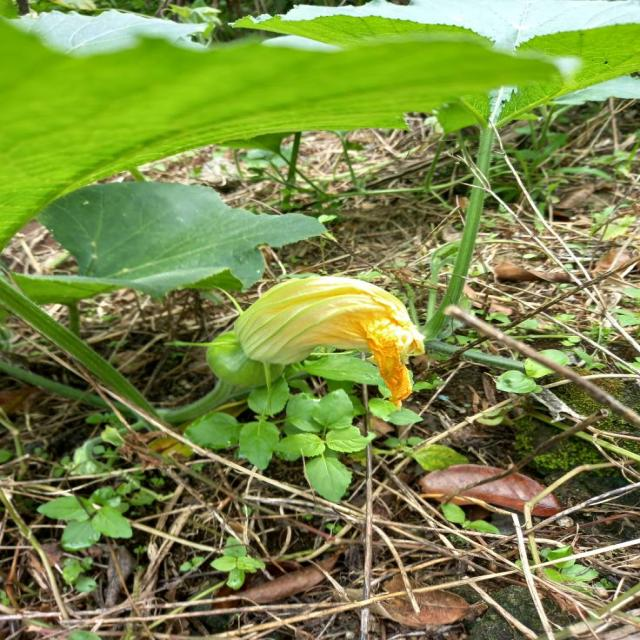flower: (230, 272, 435, 409)
